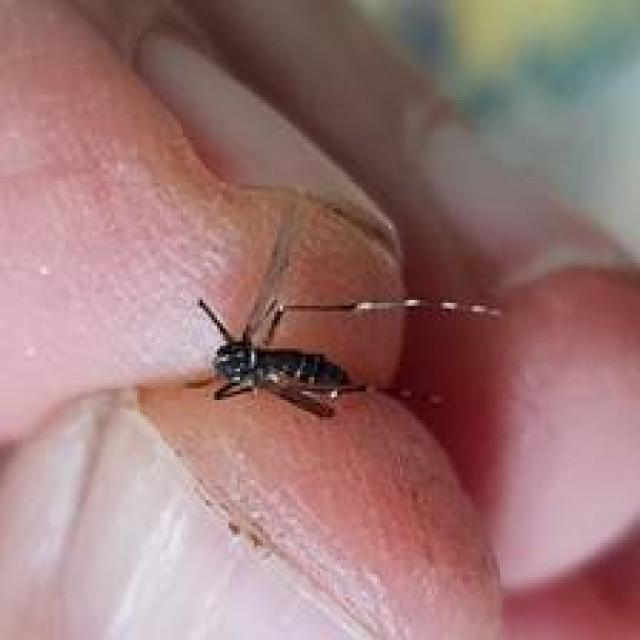Aedes albopictus: (190, 197, 504, 420)
